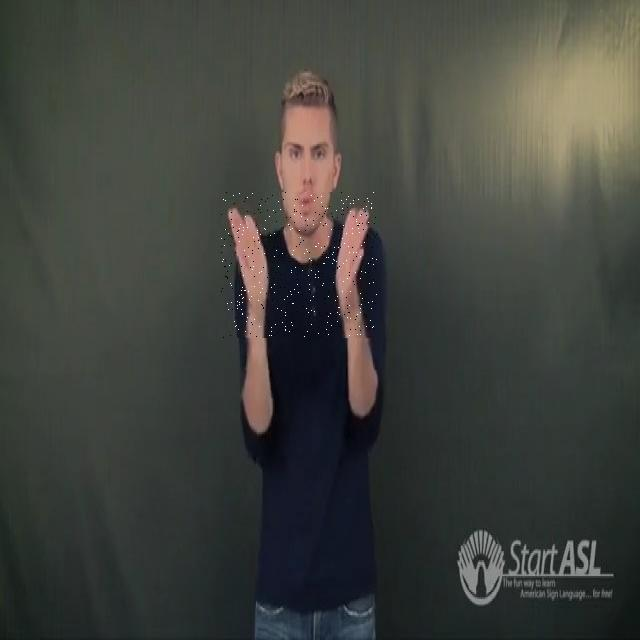small: (222, 192, 378, 338)
